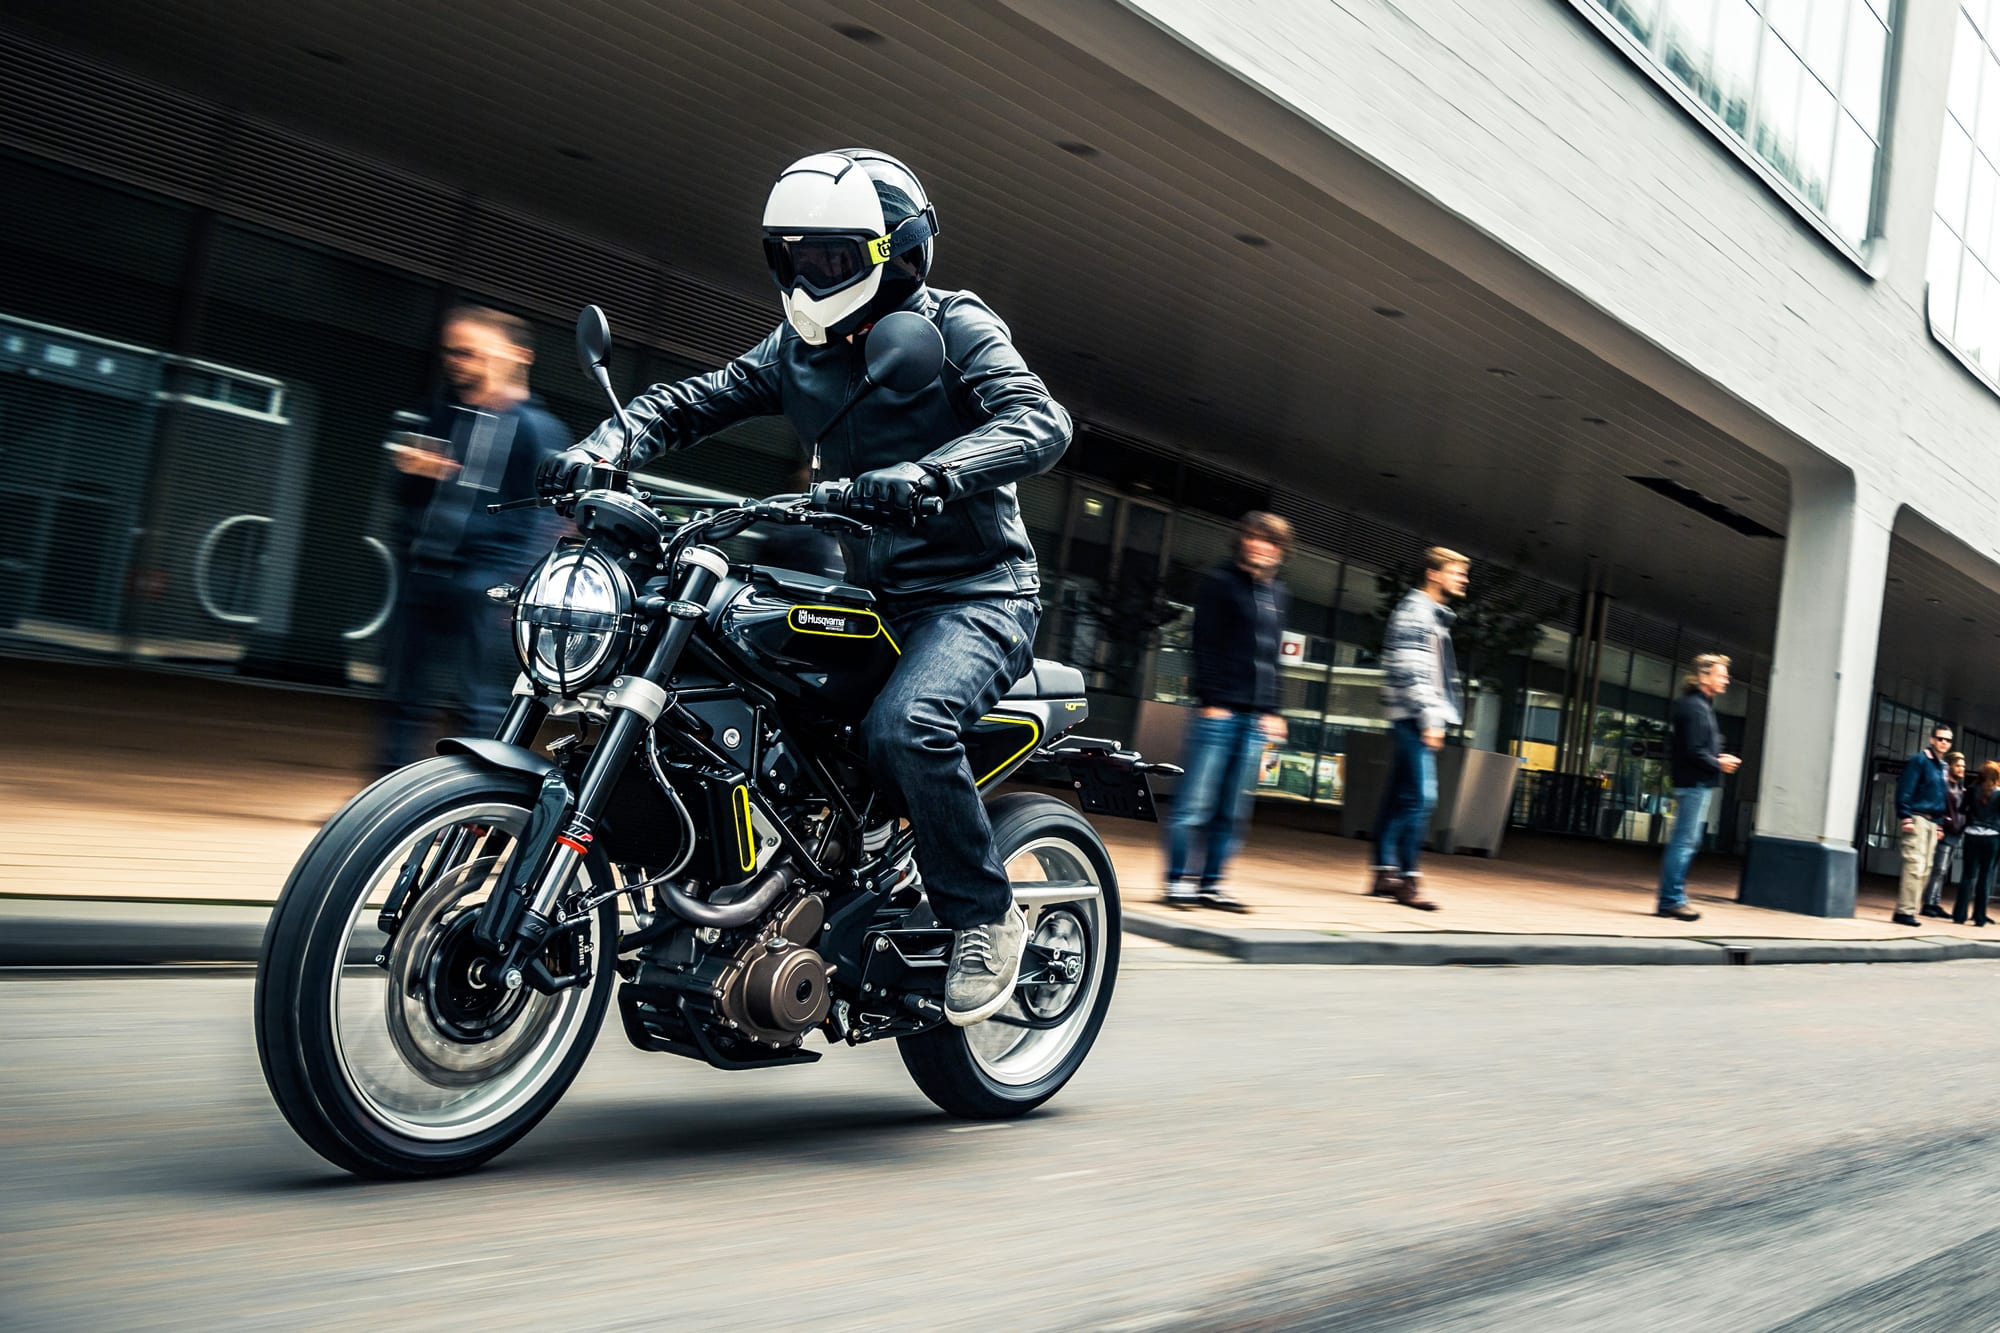motorcycle: (253, 295, 1124, 1181)
